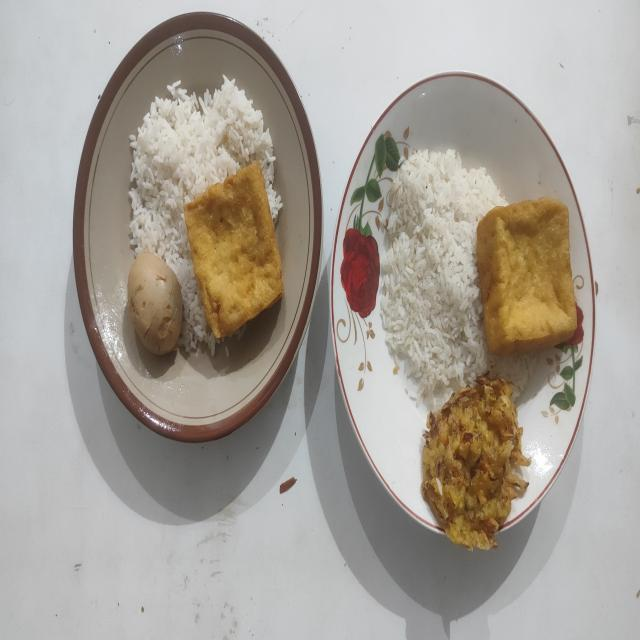nasi_putih: (128, 78, 282, 353), (380, 150, 506, 409)
tahu_goreng: (184, 162, 284, 336), (476, 198, 576, 356)
